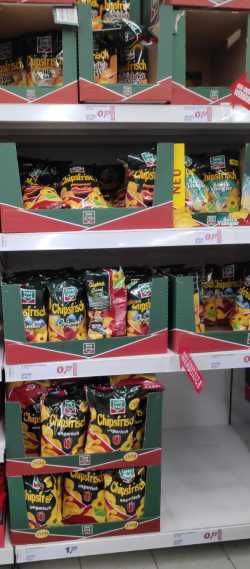chipsfrisch: (87, 388, 139, 456), (84, 270, 127, 337), (40, 394, 86, 455), (62, 470, 106, 526), (201, 152, 240, 212), (22, 473, 62, 528), (106, 470, 147, 523), (48, 284, 86, 341), (58, 160, 99, 208), (18, 286, 48, 343), (26, 34, 57, 86), (127, 152, 156, 207), (128, 279, 154, 337), (118, 39, 149, 84)
